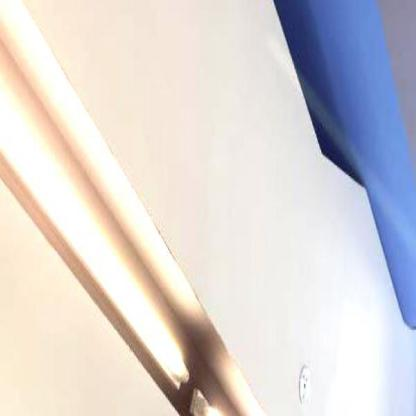light_on: (0, 0, 195, 411), (195, 392, 292, 414)
